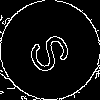S: (25, 25, 82, 77)
